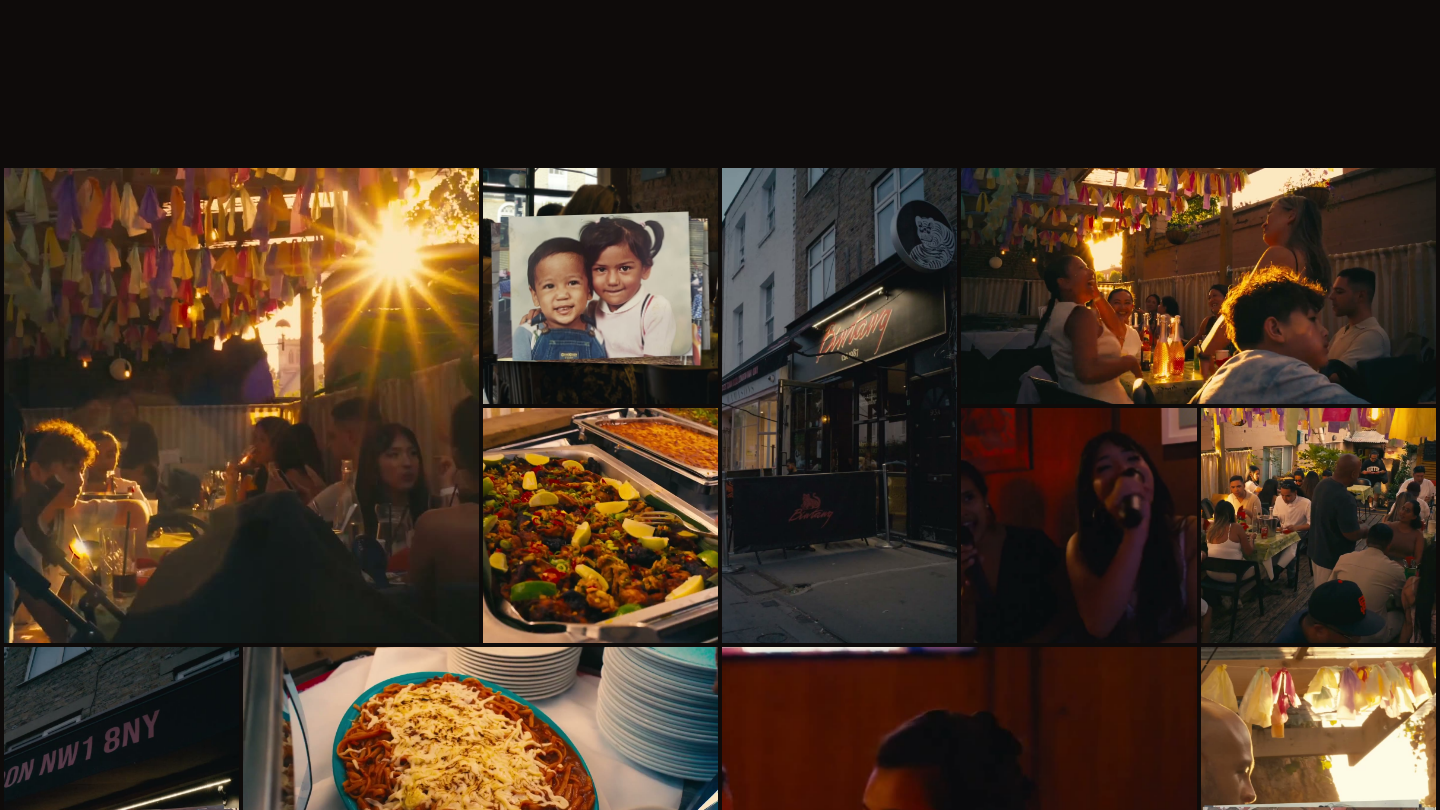
Test: Gallery viewer › steps with the buttons and arrow keys, wrapping at both ends
Later steps or results of the test are not shown.
(page scrolled)
Click the button named "Open photo: The garden at golden hour". click: (241, 406)
box: [4, 168, 479, 643]
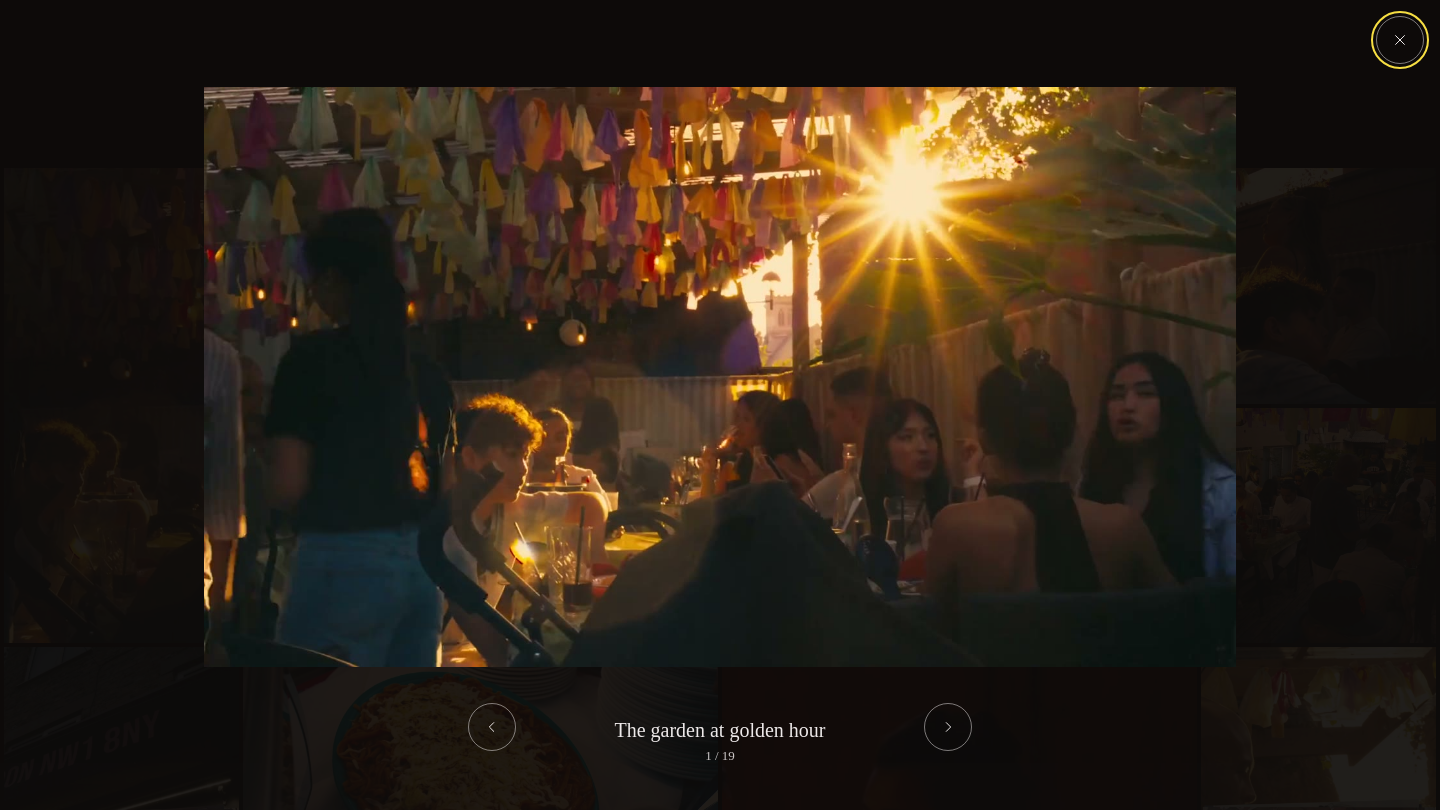
Click the button named "Next photo". click: (948, 727)
box: [924, 703, 972, 751]
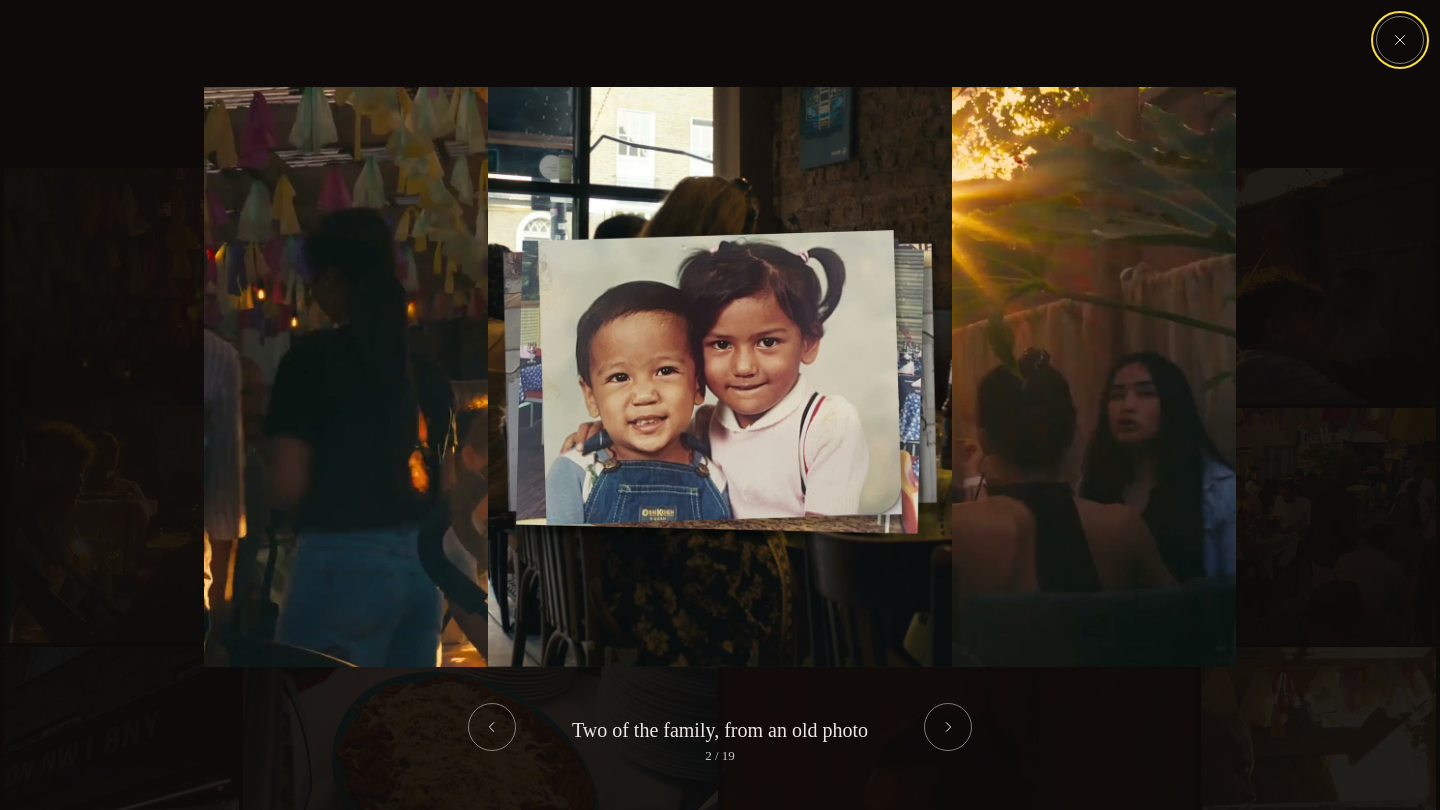
Click the button named "Previous photo". click: (492, 727)
box: [468, 703, 516, 751]
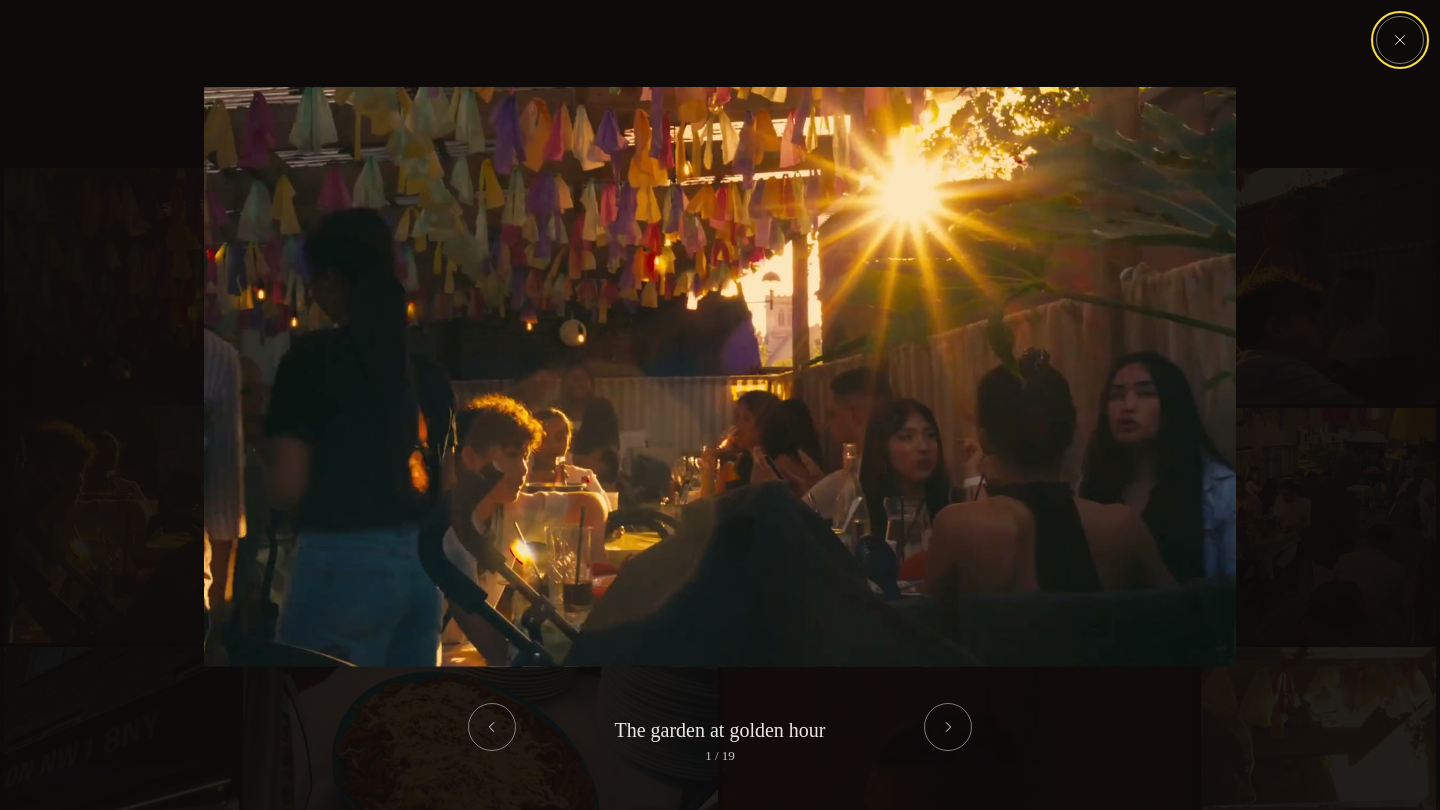
Press ArrowLeft
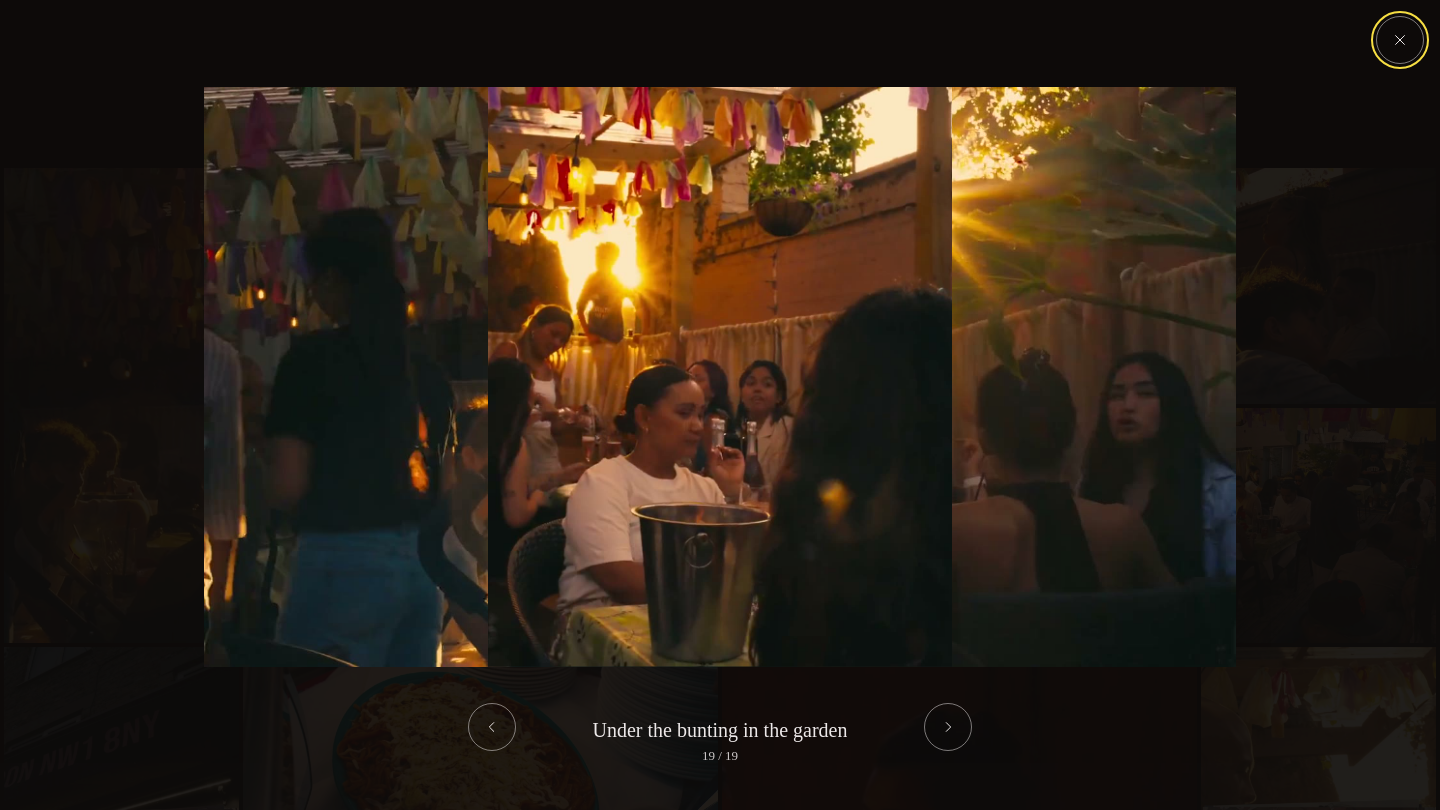
expect the picture named "Under the bunting in the garden" is shown: met, box [170, 86, 1270, 666]
